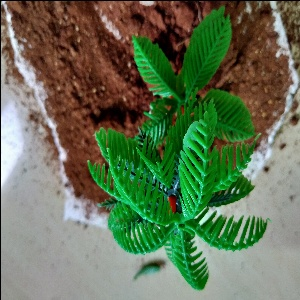plant: (98, 29, 266, 296)
